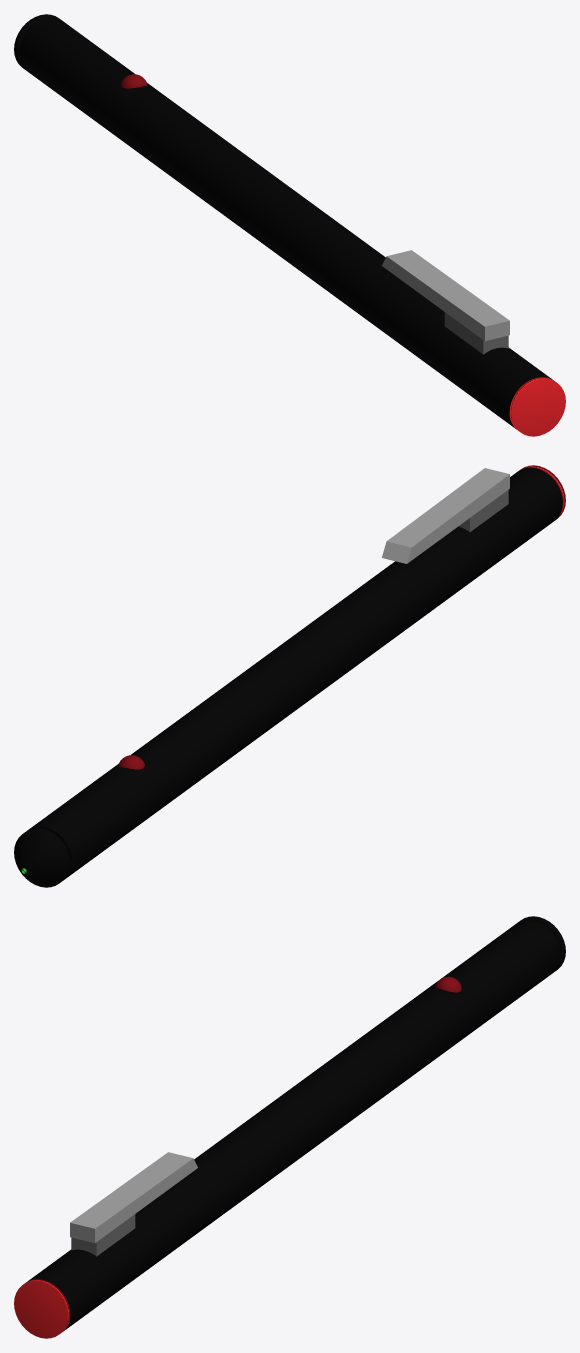
Rendered from pointer.fbx.
The picture shows the model from 3 angles, top to bottom: view 1: azimuth 30°, elevation 25°; view 2: azimuth 150°, elevation 25°; view 3: azimuth 330°, elevation 25°; orthographic projection.
Visible parts, largest first — view 1: Cylinder, Cube.001, Cylinder.004, Cube; view 2: Cylinder, Cube.001, Cylinder.002, Cube; view 3: Cylinder, Cube.001, Cylinder.004, Cube.
Part boxes in pixels (<box>): Cylinder: <box>16,18,553,429</box>; Cube.001: <box>382,250,509,341</box>; Cylinder.004: <box>509,377,565,436</box>; Cube: <box>444,312,508,354</box>; Cylinder: <box>28,467,562,880</box>; Cube.001: <box>382,468,509,563</box>; Cylinder.002: <box>14,826,72,887</box>; Cube: <box>458,490,508,532</box>; Cylinder: <box>26,920,563,1331</box>; Cube.001: <box>70,1152,197,1243</box>; Cylinder.004: <box>14,1279,70,1338</box>; Cube: <box>71,1214,135,1256</box>.
Size of the model in its own units: 36.03 by 52.54 by 602.
